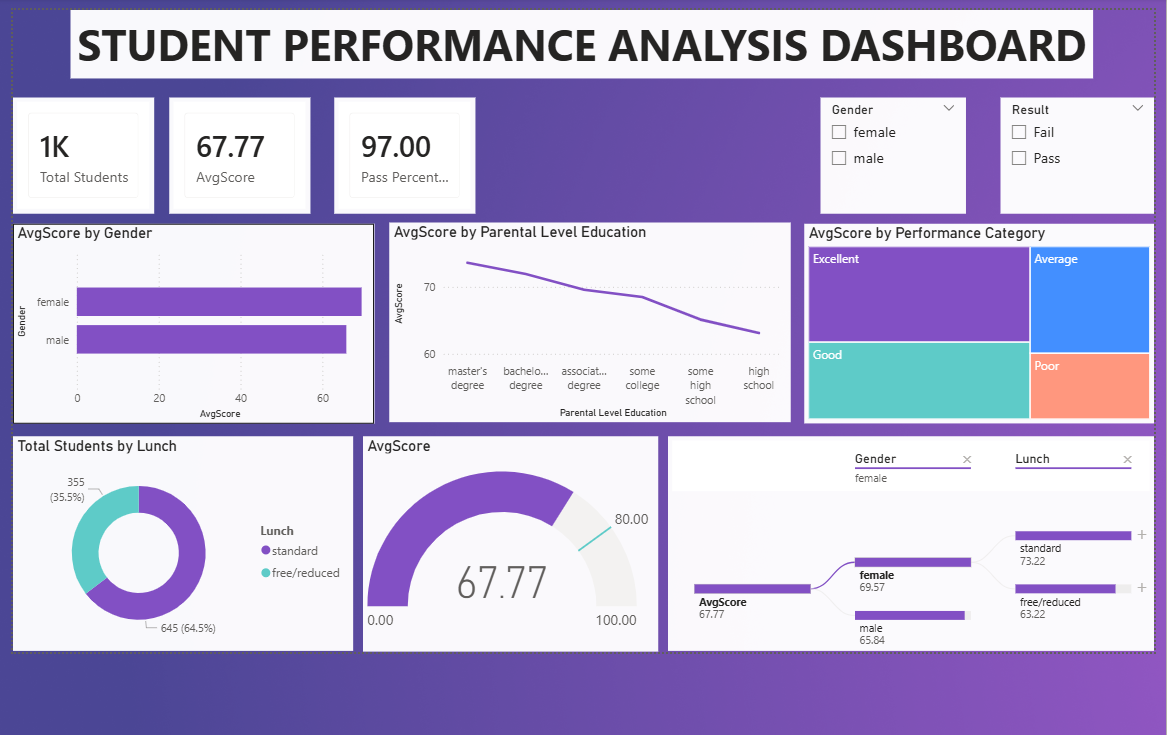

Layout of this report page (visuals, bound fields, positions):
{"tool":"powerbi","page":{"name":"Page 1","canvas":[1280,720],"ordinal":0},"visuals":[{"type":"textbox","box":[64.3,0,1147.1,77.1],"z":0},{"type":"cardVisual","fields":{"Data":["StudentsPerformance.Total Students"]},"box":[0,98.6,158.6,130],"z":1},{"type":"cardVisual","fields":{"Data":["StudentsPerformance.Pass Percentage"]},"box":[360,98.6,158.6,130],"z":3},{"type":"cardVisual","fields":{"Data":["StudentsPerformance.AvgScore"]},"box":[175.7,98.6,158.6,130],"z":4},{"type":"clusteredBarChart","fields":{"Category":["StudentsPerformance.Gender"],"Y":["StudentsPerformance.AvgScore"]},"box":[0,239.8,405.3,224.4],"z":5},{"type":"donutChart","fields":{"Category":["StudentsPerformance.Lunch"],"Y":["StudentsPerformance.Total Students"]},"box":[0,478.2,381.4,241.2],"z":6},{"type":"lineChart","fields":{"Category":["StudentsPerformance.Parental Level Education"],"Y":["StudentsPerformance.AvgScore"]},"box":[421.4,238.6,450,224.3],"z":7},{"type":"treemap","fields":{"Group":["StudentsPerformance.Performance Category"],"Values":["StudentsPerformance.AvgScore"]},"box":[887.1,240,392.9,224.3],"z":8},{"type":"gauge","fields":{"Y":["StudentsPerformance.AvgScore"]},"box":[392.9,478.6,331.4,241.4],"z":9},{"type":"decompositionTreeVisual","fields":{"Analyze":["StudentsPerformance.AvgScore"],"ExplainBy":["StudentsPerformance.Gender","StudentsPerformance.Lunch","StudentsPerformance.Performance Category"]},"box":[734.8,478.2,545.5,241.2],"z":10},{"type":"slicer","fields":{"Values":["StudentsPerformance.Gender"]},"box":[905.7,98.6,162.9,130],"z":11},{"type":"slicer","fields":{"Values":["StudentsPerformance.Result"]},"box":[1107.1,98.6,172.9,130],"z":12}]}

Visuals, with their boxes in screenshot pixels (x1, y1, x2, y2):
textbox: bbox(64, 6, 1095, 75)
cardVisual - StudentsPerformance.Total Students: bbox(6, 95, 149, 212)
cardVisual - StudentsPerformance.Pass Percentage: bbox(330, 95, 472, 212)
cardVisual - StudentsPerformance.AvgScore: bbox(164, 95, 307, 212)
clusteredBarChart - StudentsPerformance.Gender x StudentsPerformance.AvgScore: bbox(6, 222, 370, 423)
donutChart - StudentsPerformance.Lunch x StudentsPerformance.Total Students: bbox(6, 436, 349, 653)
lineChart - StudentsPerformance.Parental Level Education x StudentsPerformance.AvgScore: bbox(385, 221, 790, 422)
treemap - StudentsPerformance.Performance Category x StudentsPerformance.AvgScore: bbox(804, 222, 1157, 424)
gauge - StudentsPerformance.AvgScore: bbox(359, 436, 657, 653)
decompositionTreeVisual - StudentsPerformance.AvgScore x StudentsPerformance.Gender: bbox(667, 436, 1157, 653)
slicer - StudentsPerformance.Gender: bbox(820, 95, 967, 212)
slicer - StudentsPerformance.Result: bbox(1001, 95, 1157, 212)
